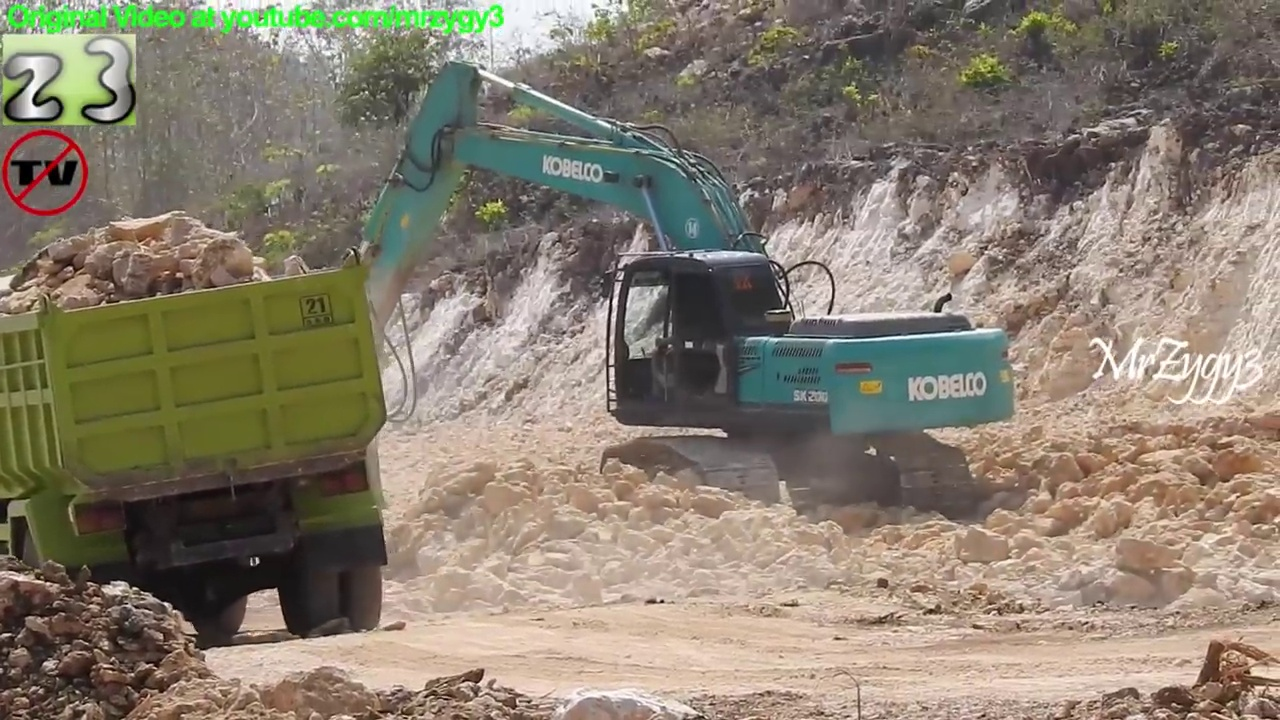excavator: (309, 57, 1027, 527)
truck: (1, 244, 396, 667)
